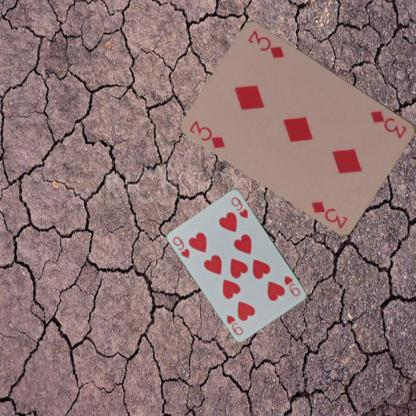3d: (368, 107, 409, 140), (187, 117, 227, 150)
9h: (170, 234, 192, 259), (282, 272, 302, 298)
